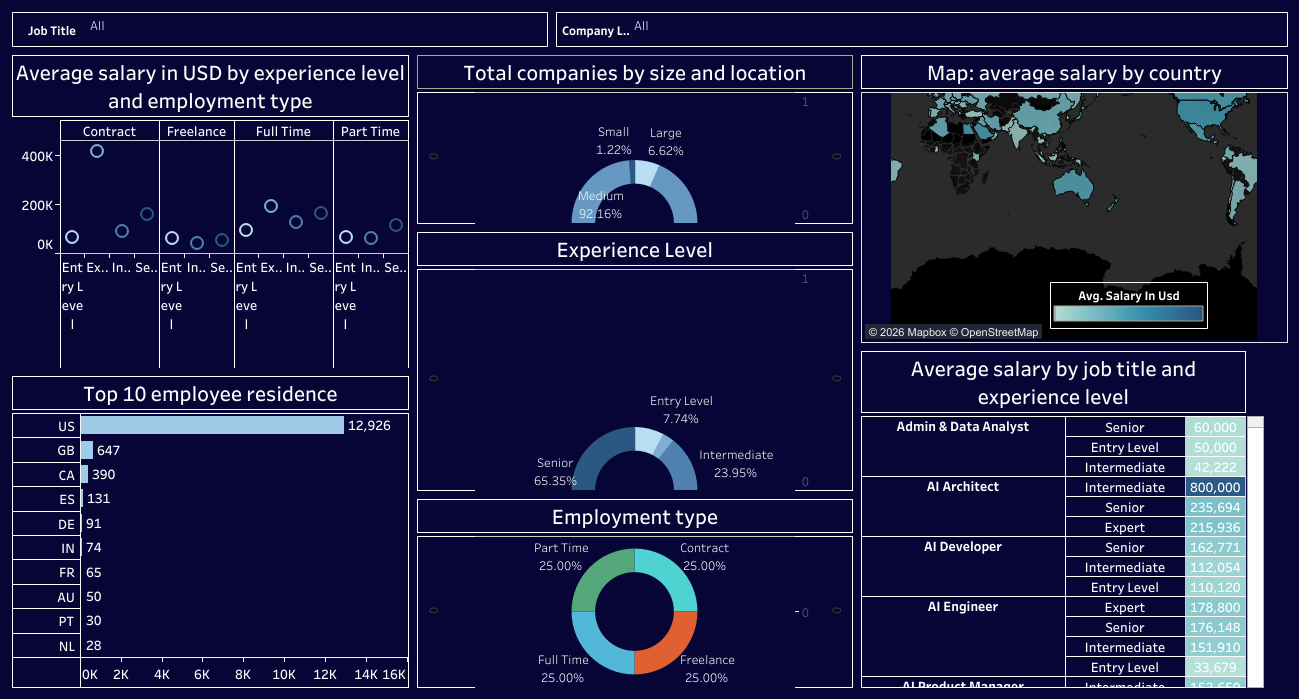

What the dashboard file says about the page in this screenshot:
{"tool":"tableau","page":{"name":"Dashboard 1","canvas":[1300,700],"ordinal":0},"visuals":[{"type":"filter","title":"Map: average salary by country","param":"[federated.05j8zok0uxr3ag1fawr1e0chpde7].[none:job_title:nk]","box":[8,8,543.8,43.2]},{"type":"filter","title":"Total Companies by size and location","param":"[federated.05j8zok0uxr3ag1fawr1e0chpde7].[none:company_location:nk]","box":[551.7,8,740.3,43.2]},{"type":"worksheet","title":"Average salary in USD by experience level and employment type","mark":"Shape","rows":["salary_in_usd"],"cols":["employment_type","experience_level"],"box":[8,51.2,405.1,320.3]},{"type":"worksheet","title":"Total Companies by size and location","mark":"Pie","rows":["Calculation_703405977146413059","Calculation_703405977146413059"],"box":[413.1,51.2,444.2,176.7]},{"type":"worksheet","title":"Map: average salary by country","mark":"Automatic","box":[857.3,51.2,434.7,295.8]},{"type":"worksheet","title":"Experience Level","mark":"Pie","rows":["Calculation_703405977146413059","Calculation_703405977146413059"],"box":[413.1,228,444.2,267.5]},{"type":"legend","title":"Map: average salary by country","param":"[federated.05j8zok0uxr3ag1fawr1e0chpde7].[avg:salary_in_usd:qk]","box":[1049.9,282.3,158.5,46.7]},{"type":"worksheet","title":"Average salary by job title and experience level","mark":"Square","rows":["job_title","experience_level"],"box":[857.3,347,434.7,345]},{"type":"worksheet","title":"Top 10 employee residence","mark":"Automatic","rows":["employee_residence"],"cols":["employee_residence"],"box":[8,371.5,405.1,320.5]},{"type":"worksheet","title":"Employment type","mark":"Pie","rows":["Calculation_703405977146413059","Calculation_703405977146413059"],"box":[413.1,495.4,444.2,196.6]}]}

Visuals, with their boxes in screenshot pixels (x1, y1, x2, y2), scaled from the page's 1300x700 canvas onto the 1299x699 screenshot:
"Map: average salary by country" filter: [8,8,551,51]
"Total Companies by size and location" filter: [551,8,1291,51]
"Average salary in USD by experience level and employment type" worksheet (Shape marks): [8,51,413,371]
"Total Companies by size and location" worksheet (Pie marks): [413,51,857,228]
"Map: average salary by country" worksheet: [857,51,1291,347]
"Experience Level" worksheet (Pie marks): [413,228,857,495]
"Map: average salary by country" legend: [1049,282,1207,329]
"Average salary by job title and experience level" worksheet (Square marks): [857,347,1291,691]
"Top 10 employee residence" worksheet: [8,371,413,691]
"Employment type" worksheet (Pie marks): [413,495,857,691]
